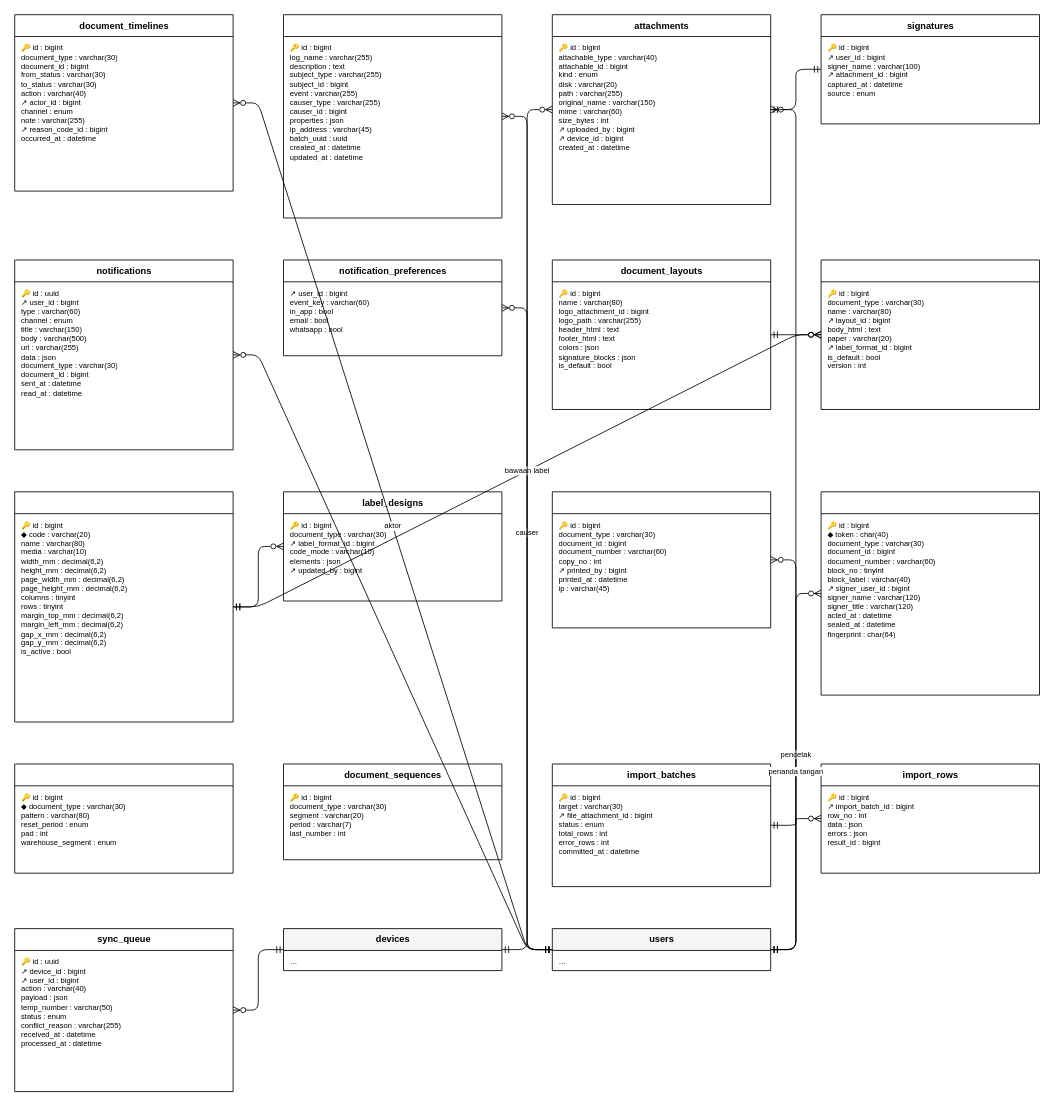
This 1054x1109 diagram has some shape labels left out. Each missing label, with the box of its shape:
audit_logs: (283, 14, 502, 218)
document_templates: (820, 259, 1040, 410)
label_formats: (14, 491, 233, 722)
numbering_formats: (14, 763, 233, 873)
print_logs: (551, 491, 771, 628)
signature_seals: (820, 491, 1040, 695)
